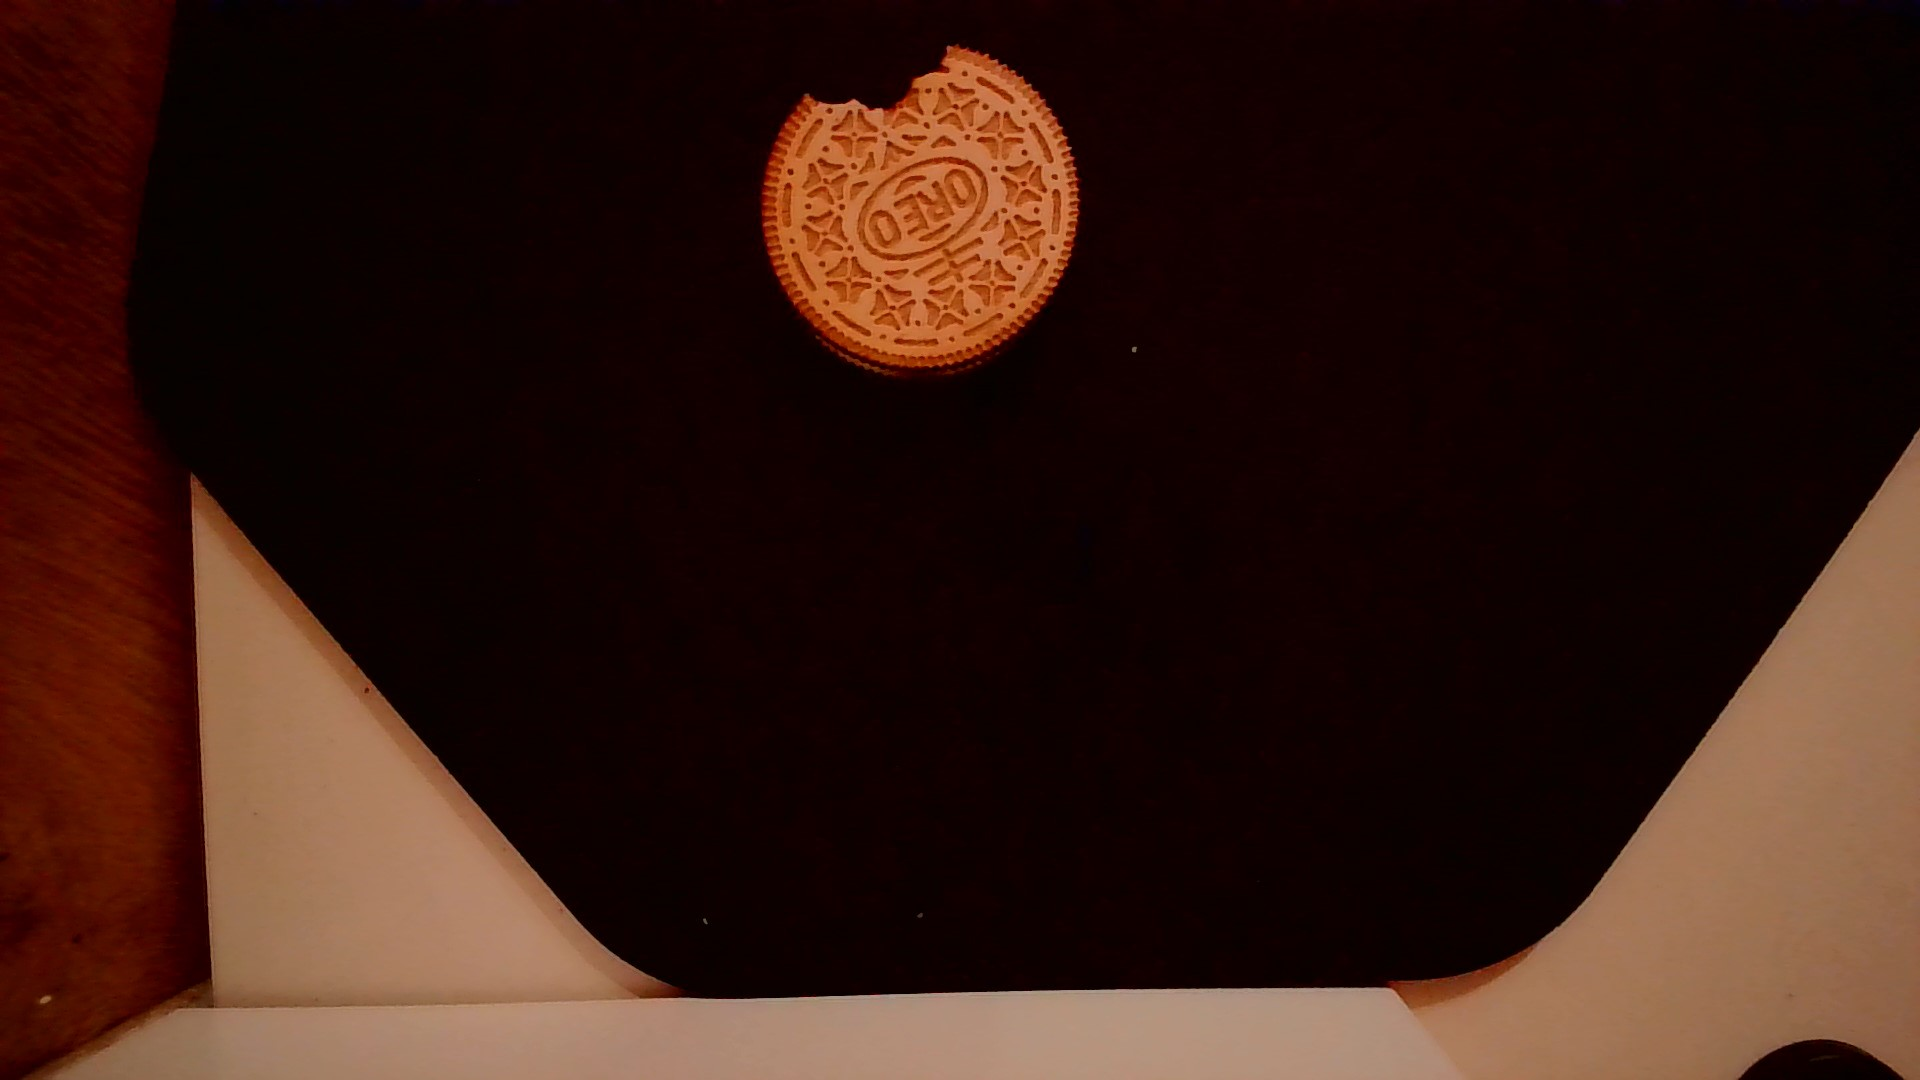Mangé: (785, 30, 963, 125)
Oréo: (752, 38, 1087, 382)
